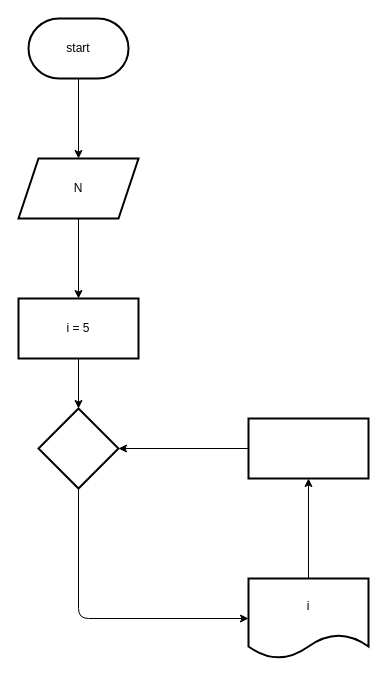
Image size: 386x676. Some labels were removed from this diagram. Here are the shapes that lost their labels. From the top down, the centre of each, then its label:
At point 78,448: "i < N + 1".
At point 308,448: "i += -1".
